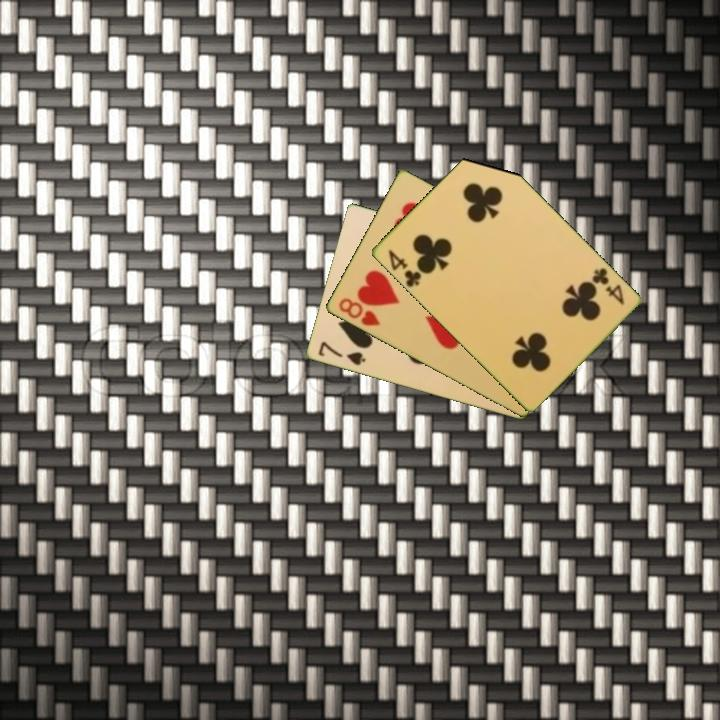4c: (384, 246, 426, 290), (588, 264, 627, 308)
7s: (314, 338, 368, 369)
8h: (335, 294, 383, 329)
